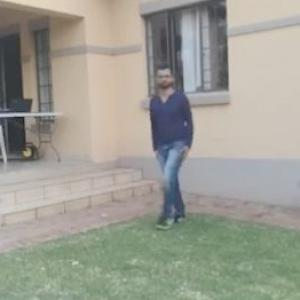follow: (152, 67, 204, 222)
